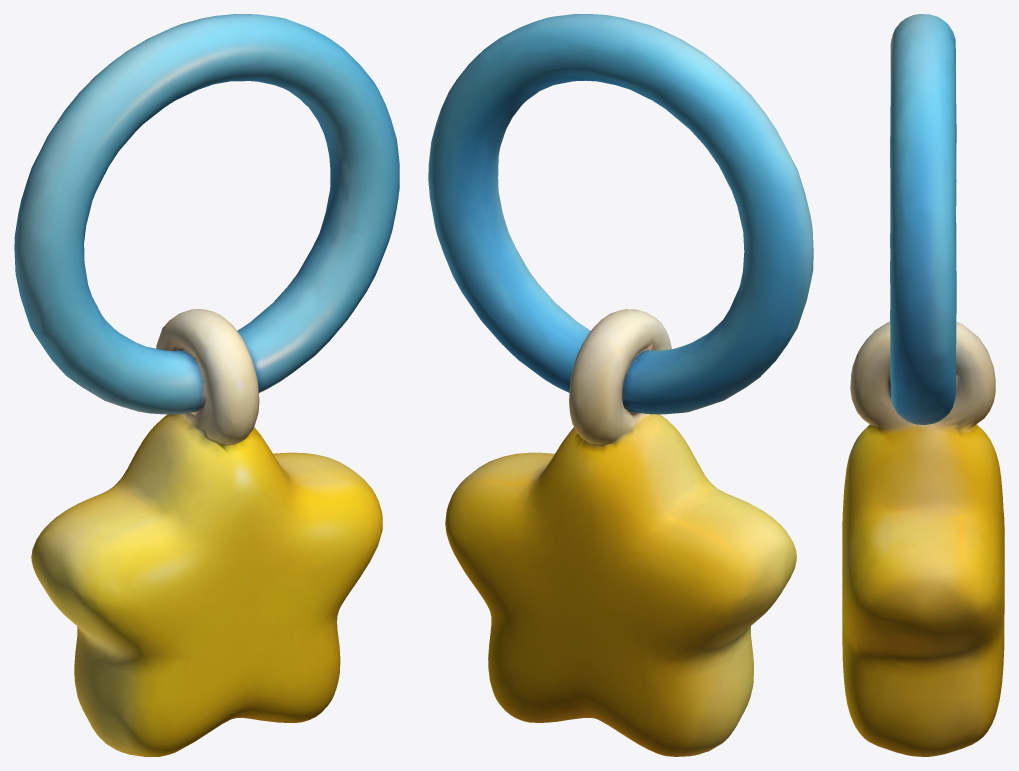
Rendered from neck-star.glb.
3 views of the same model, side by side, from view 1: azimuth 30°, elevation 25°; view 2: azimuth 150°, elevation 25°; view 3: azimuth 270°, elevation 25° (orthographic). The views are drawn at different scales.
Parts seen in each view (by area): view 1: tripo_node_0813aaf6-0562-41ac-a136-6cc8c9e55e84; view 2: tripo_node_0813aaf6-0562-41ac-a136-6cc8c9e55e84; view 3: tripo_node_0813aaf6-0562-41ac-a136-6cc8c9e55e84.
Boxes of the visible parts, x1,y1,x2,y2 form: tripo_node_0813aaf6-0562-41ac-a136-6cc8c9e55e84: (14, 14, 399, 756); tripo_node_0813aaf6-0562-41ac-a136-6cc8c9e55e84: (428, 14, 813, 756); tripo_node_0813aaf6-0562-41ac-a136-6cc8c9e55e84: (842, 14, 1004, 756).
Size of the model in its own units: 0.5544 by 1 by 0.215.
1 material, 1 textured.
